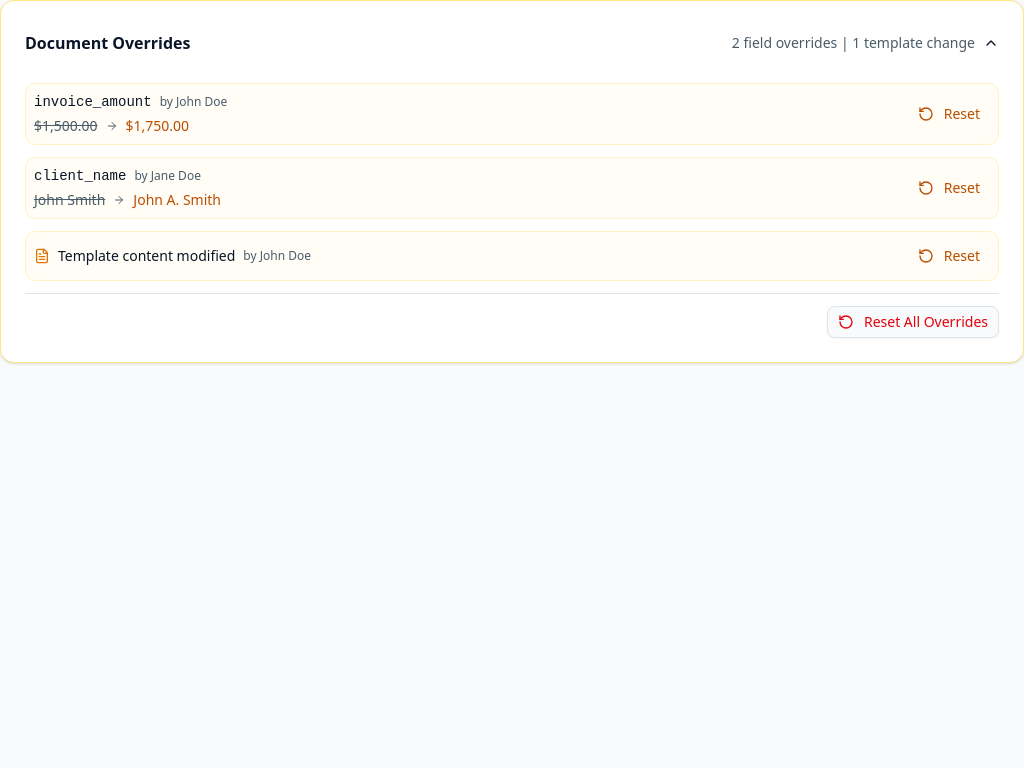
OverrideManagementPanel › confirmation dialogs › should show confirmation before resetting all
Click the button "Reset All Overrides": coordinates (913, 322) top-left (827, 306), bottom-right (999, 338)
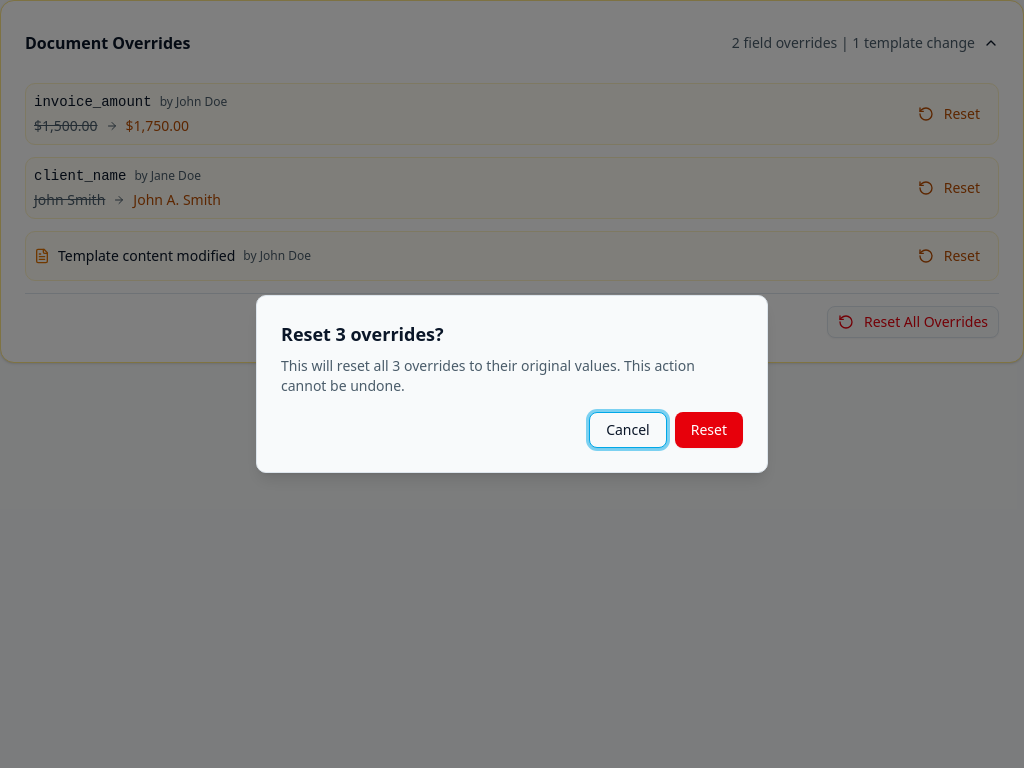
Result: the heading "Reset 3 overrides?" is shown at top-left (281, 322), bottom-right (444, 346)
